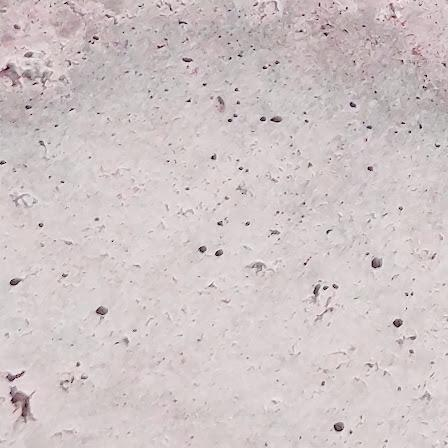hole: (332, 420, 346, 435)
spalling: (1, 57, 58, 94), (4, 380, 39, 429)
